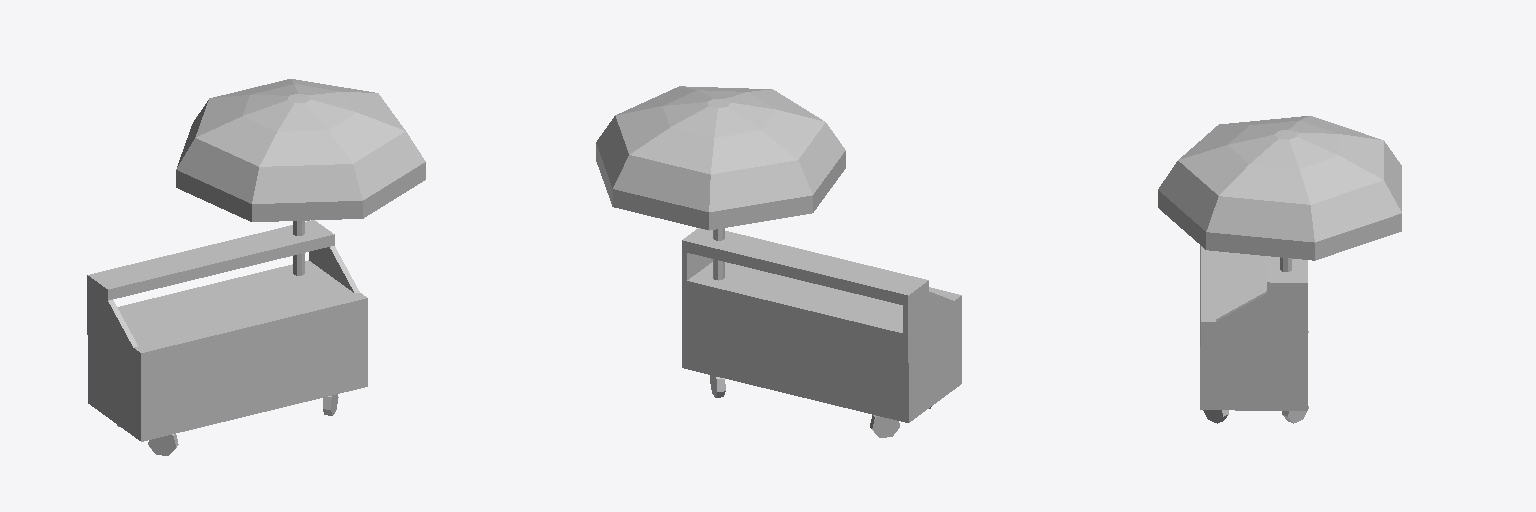
File: food-stand.obj
3 views of the same model, side by side, from view 1: azimuth 30°, elevation 25°; view 2: azimuth 150°, elevation 25°; view 3: azimuth 270°, elevation 25° (orthographic).
Parts seen in each view (by area): view 1: prop-food-stand-1.004; view 2: prop-food-stand-1.004; view 3: prop-food-stand-1.004.
Part boxes in pixels (bbox=[...]): prop-food-stand-1.004: bbox=[87, 79, 425, 455]; prop-food-stand-1.004: bbox=[596, 86, 961, 437]; prop-food-stand-1.004: bbox=[1158, 116, 1401, 423].
Size of the model in its own units: 2.96 by 2.63 by 2.03.